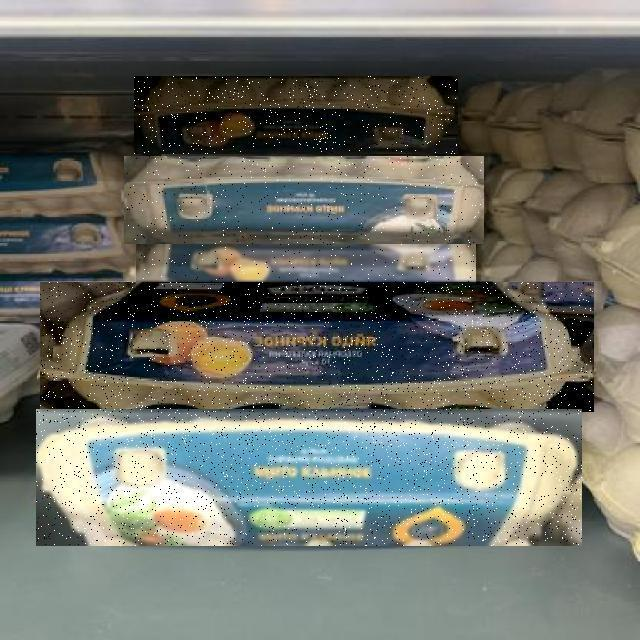Eggs: (36, 409, 582, 546), (40, 282, 594, 412), (124, 156, 484, 244), (484, 90, 640, 289), (134, 77, 458, 155), (136, 244, 476, 284)
